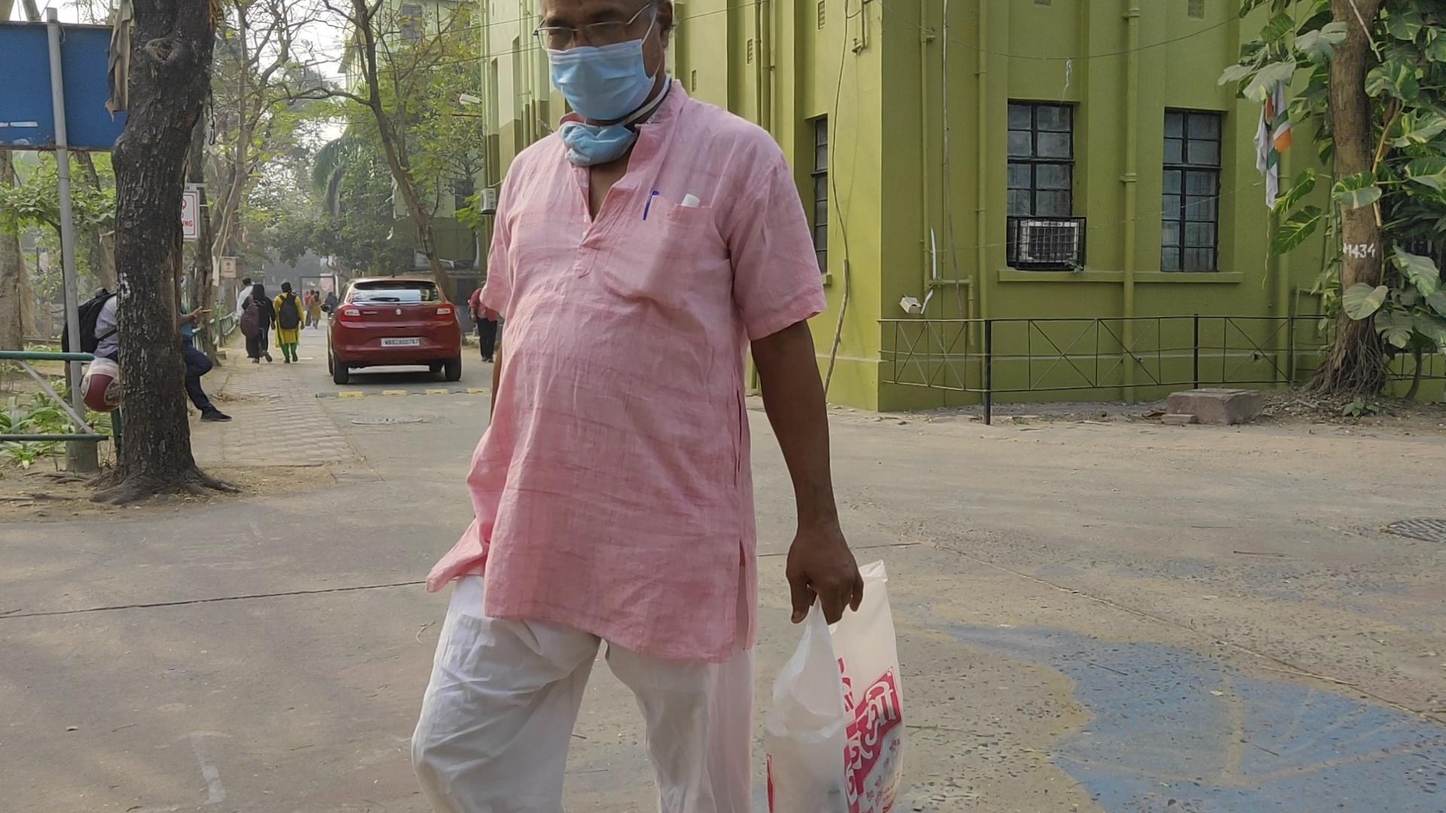car: (329, 278, 462, 385)
